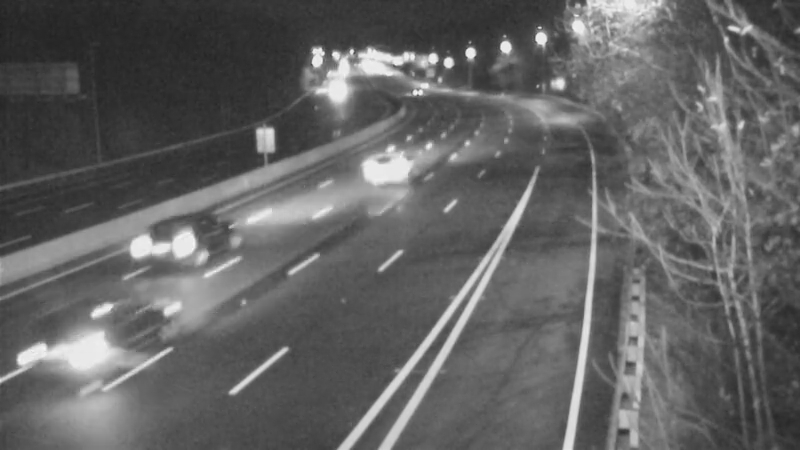vehicle: (5, 293, 115, 403), (341, 132, 421, 212), (126, 210, 206, 290), (395, 68, 445, 118), (308, 66, 358, 116)
